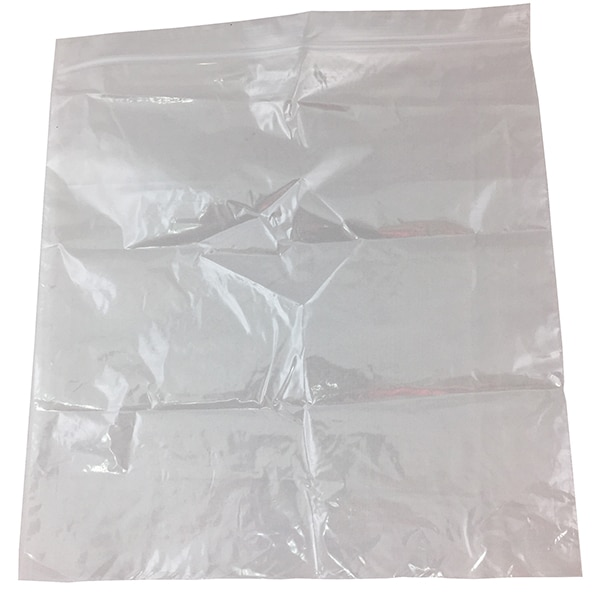plastic_bagwdw: (11, 6, 600, 591)
